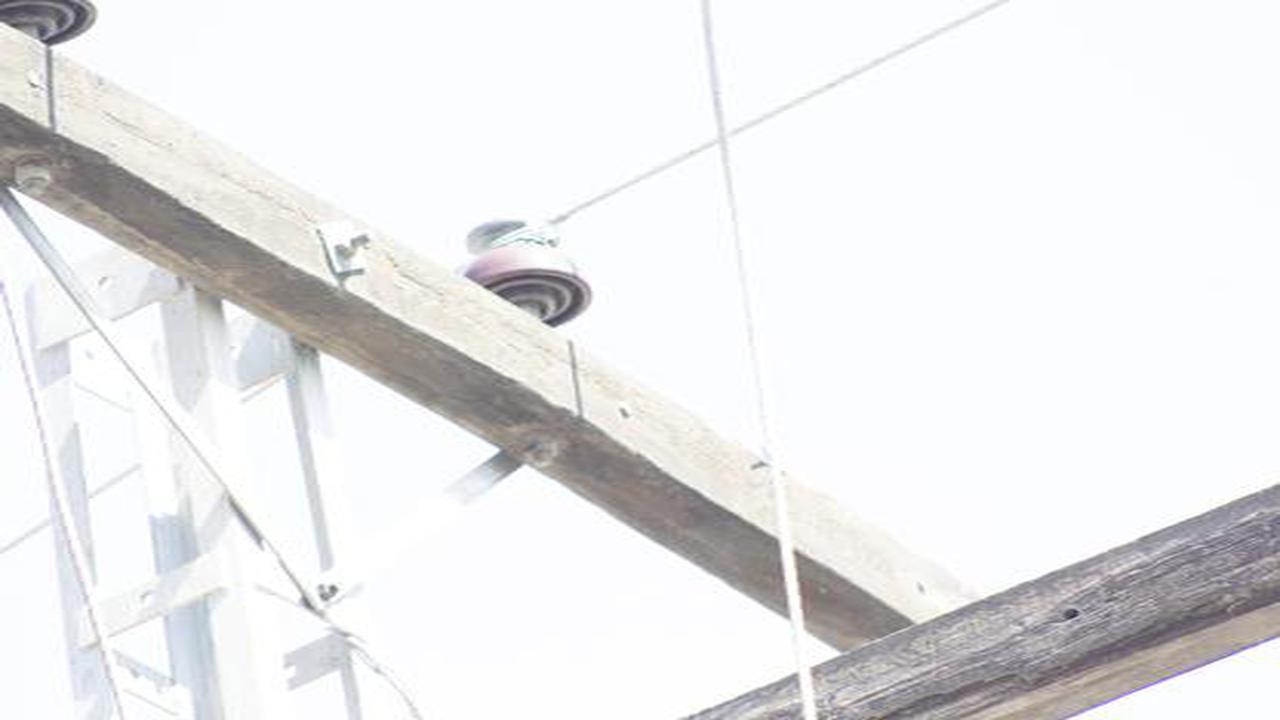insulator_pin: (463, 206, 598, 317)
